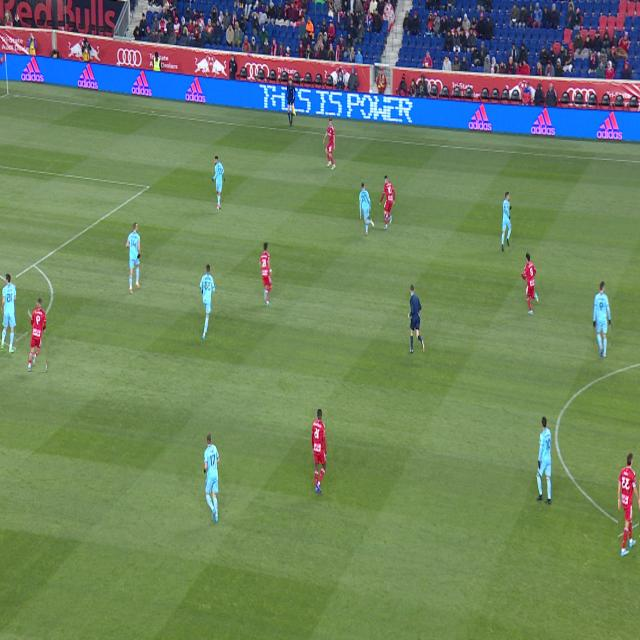football: (386, 214, 388, 221)
player: (618, 452, 640, 556), (204, 432, 220, 522), (536, 416, 552, 505), (593, 282, 611, 358), (0, 274, 16, 353), (312, 410, 327, 494), (29, 298, 46, 372), (200, 265, 215, 341), (521, 252, 539, 315), (126, 223, 141, 294), (259, 243, 273, 307), (359, 182, 374, 236), (380, 175, 395, 229), (323, 118, 336, 170), (501, 192, 512, 252), (213, 156, 224, 212)
referee: (408, 284, 424, 353)
